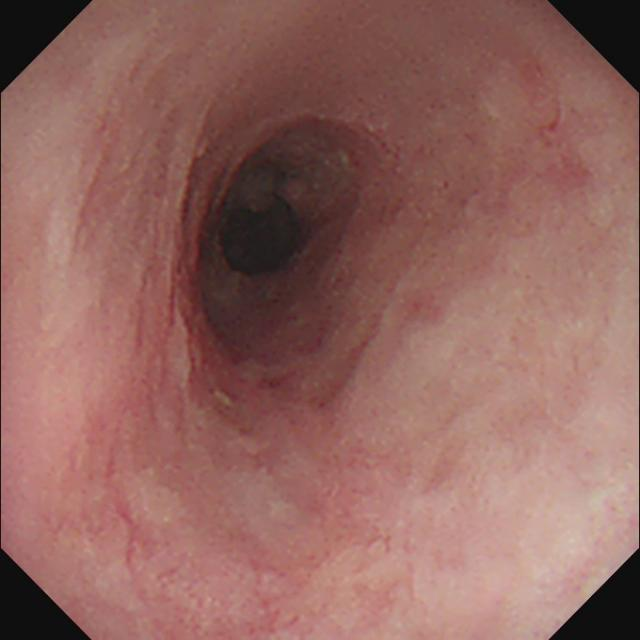A: (524, 65, 590, 191), (105, 454, 141, 566), (405, 292, 454, 325)
E: (224, 195, 300, 275)
